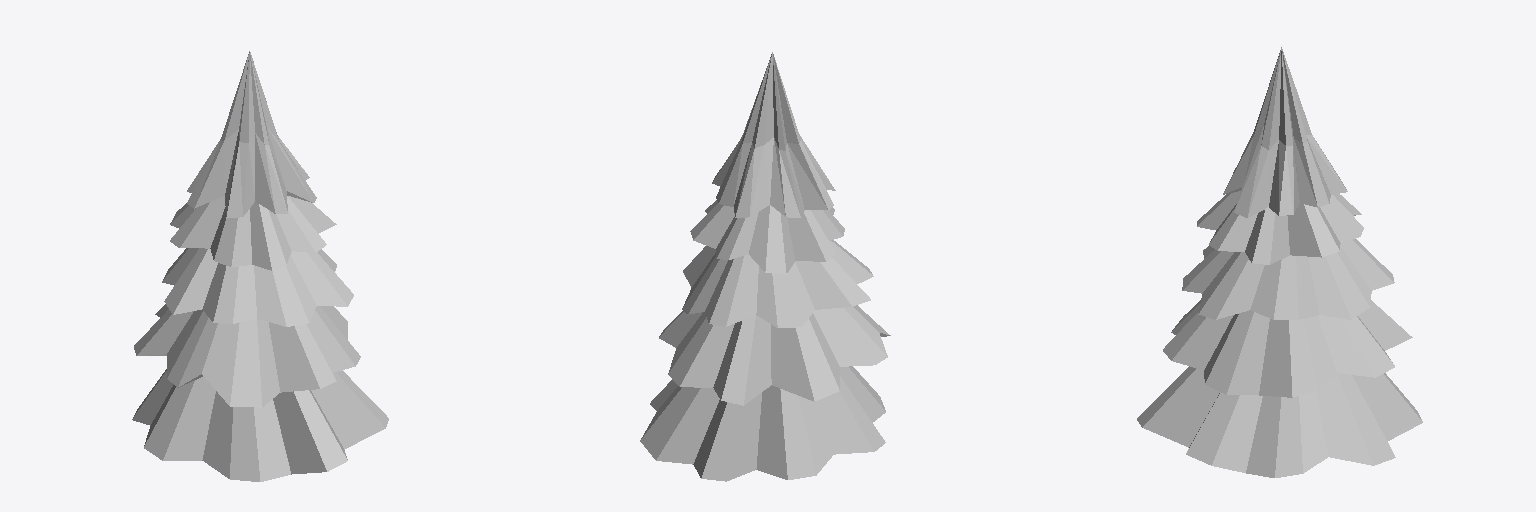
Rendered from Forest_A_FirTree_02.obj.
3 renders of one model, left to right at view 1: azimuth 30°, elevation 25°; view 2: azimuth 150°, elevation 25°; view 3: azimuth 270°, elevation 25°, orthographic.
Visible parts, largest first — view 1: Forest_A_FirTree_02; view 2: Forest_A_FirTree_02; view 3: Forest_A_FirTree_02.
Part boxes in pixels (bbox=[...]): Forest_A_FirTree_02: bbox=[132, 51, 388, 481]; Forest_A_FirTree_02: bbox=[640, 52, 890, 481]; Forest_A_FirTree_02: bbox=[1137, 47, 1422, 477].
Size of the model in its own units: 328 by 590 by 372.